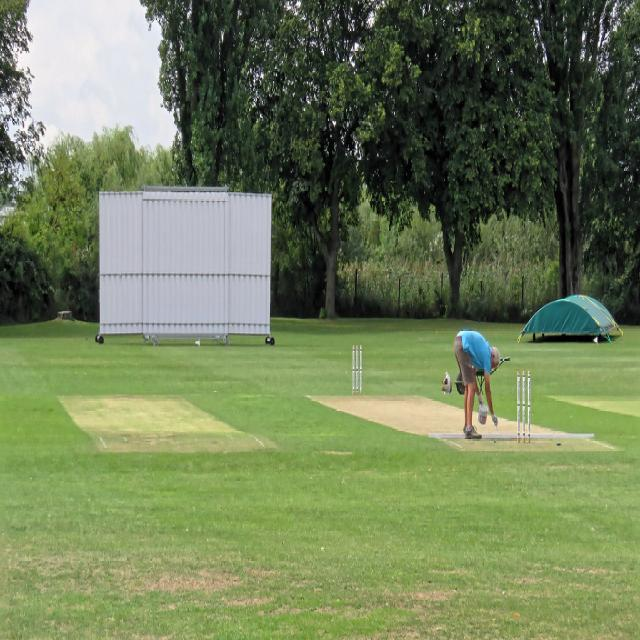stumps: (513, 367, 533, 443), (350, 341, 364, 396)
